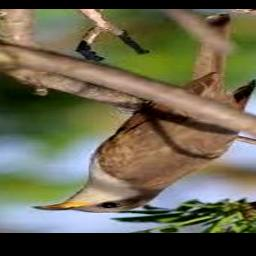Cuckoo: (33, 13, 256, 213)
